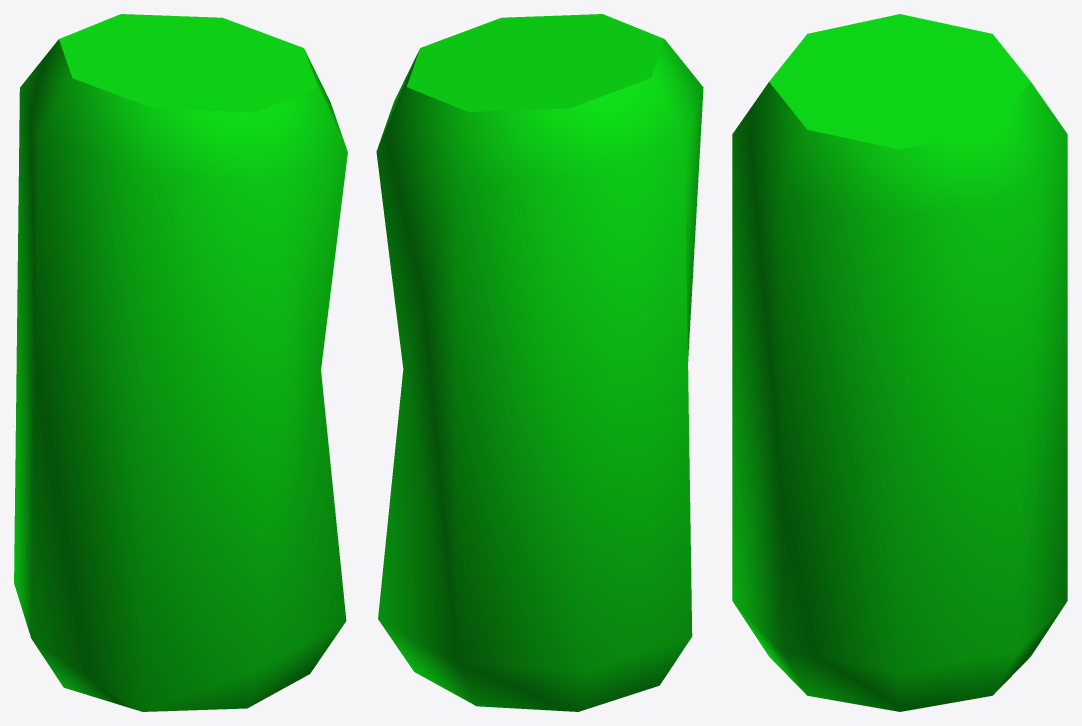
The model's file is can.glb.
The picture shows the model from 3 angles, left to right: view 1: azimuth 30°, elevation 25°; view 2: azimuth 150°, elevation 25°; view 3: azimuth 270°, elevation 25°; orthographic projection. The views are drawn at different scales.
Visible parts, largest first — view 1: can; view 2: can; view 3: can.
Part boxes in pixels (<box>): can: <box>14,14,347,711</box>; can: <box>376,14,703,711</box>; can: <box>732,14,1067,711</box>.
Bounding box in the file's own units: 1.18 × 2.28 × 1.17.
